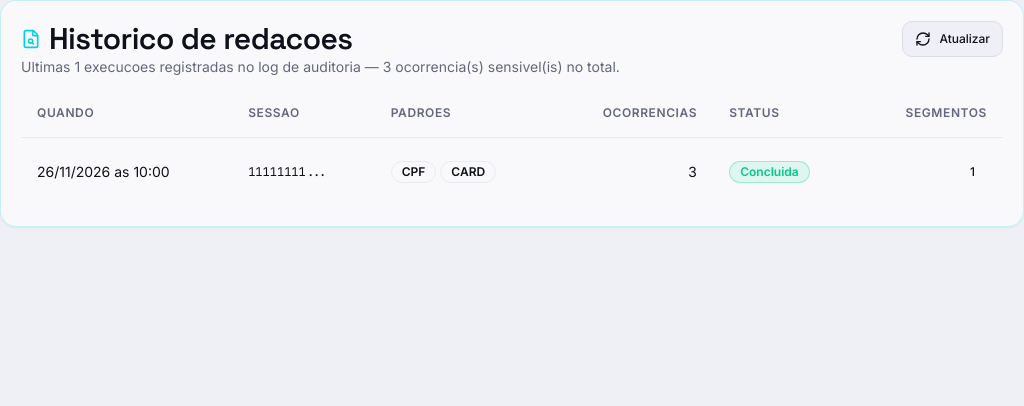
Test: RedactionLogCard › abre e fecha os segmentos marcados
The image size is (1024, 406).
What coordinates should you click on to do the following:
click the button named "Ver segmentos sensiveis de 11111111"
I would click on:
 (972, 172)
Its box is [958,154,987,190].
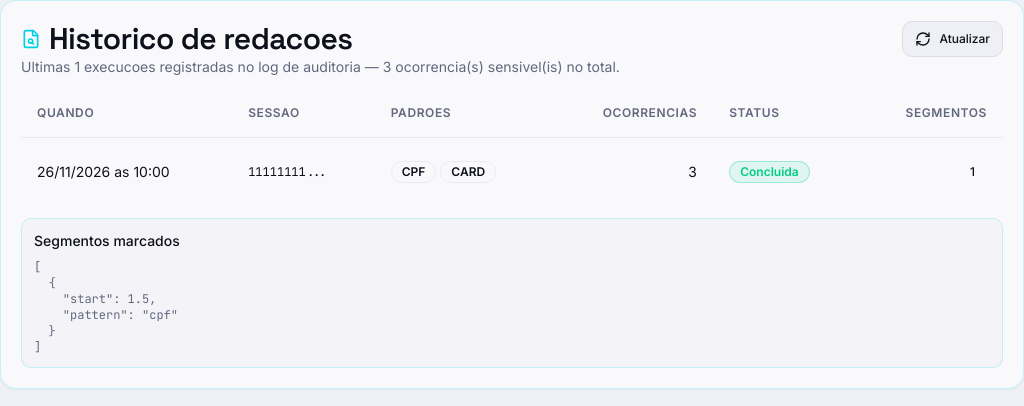
Now the text "Segmentos marcados" is shown, box [34,232,180,248]
Now the text "[ { \"start\": 1.5, \"pattern\": \"cpf\" } ]" is shown, box [34,258,178,354]
What coordinates should you click on to do the following:
click the button named "Ver segmentos sensiveis de 11111111"
I would click on:
 (972, 172)
Its box is [958,154,987,190].
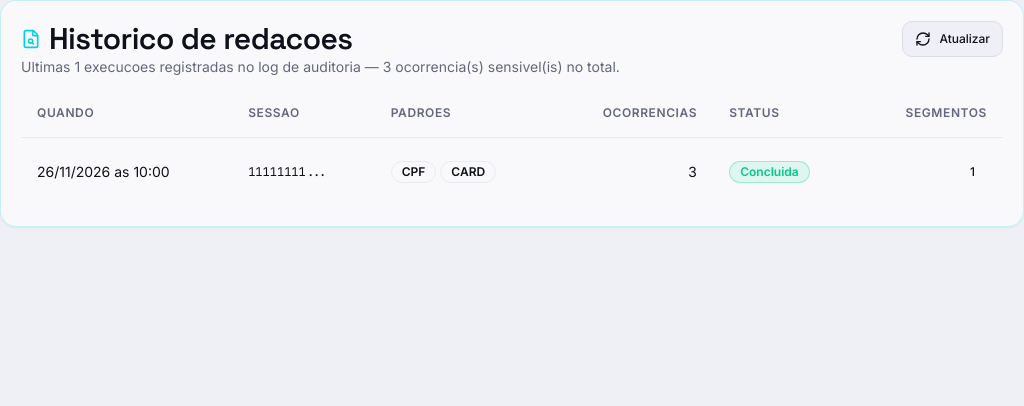
Now the text "Segmentos marcados" is gone
